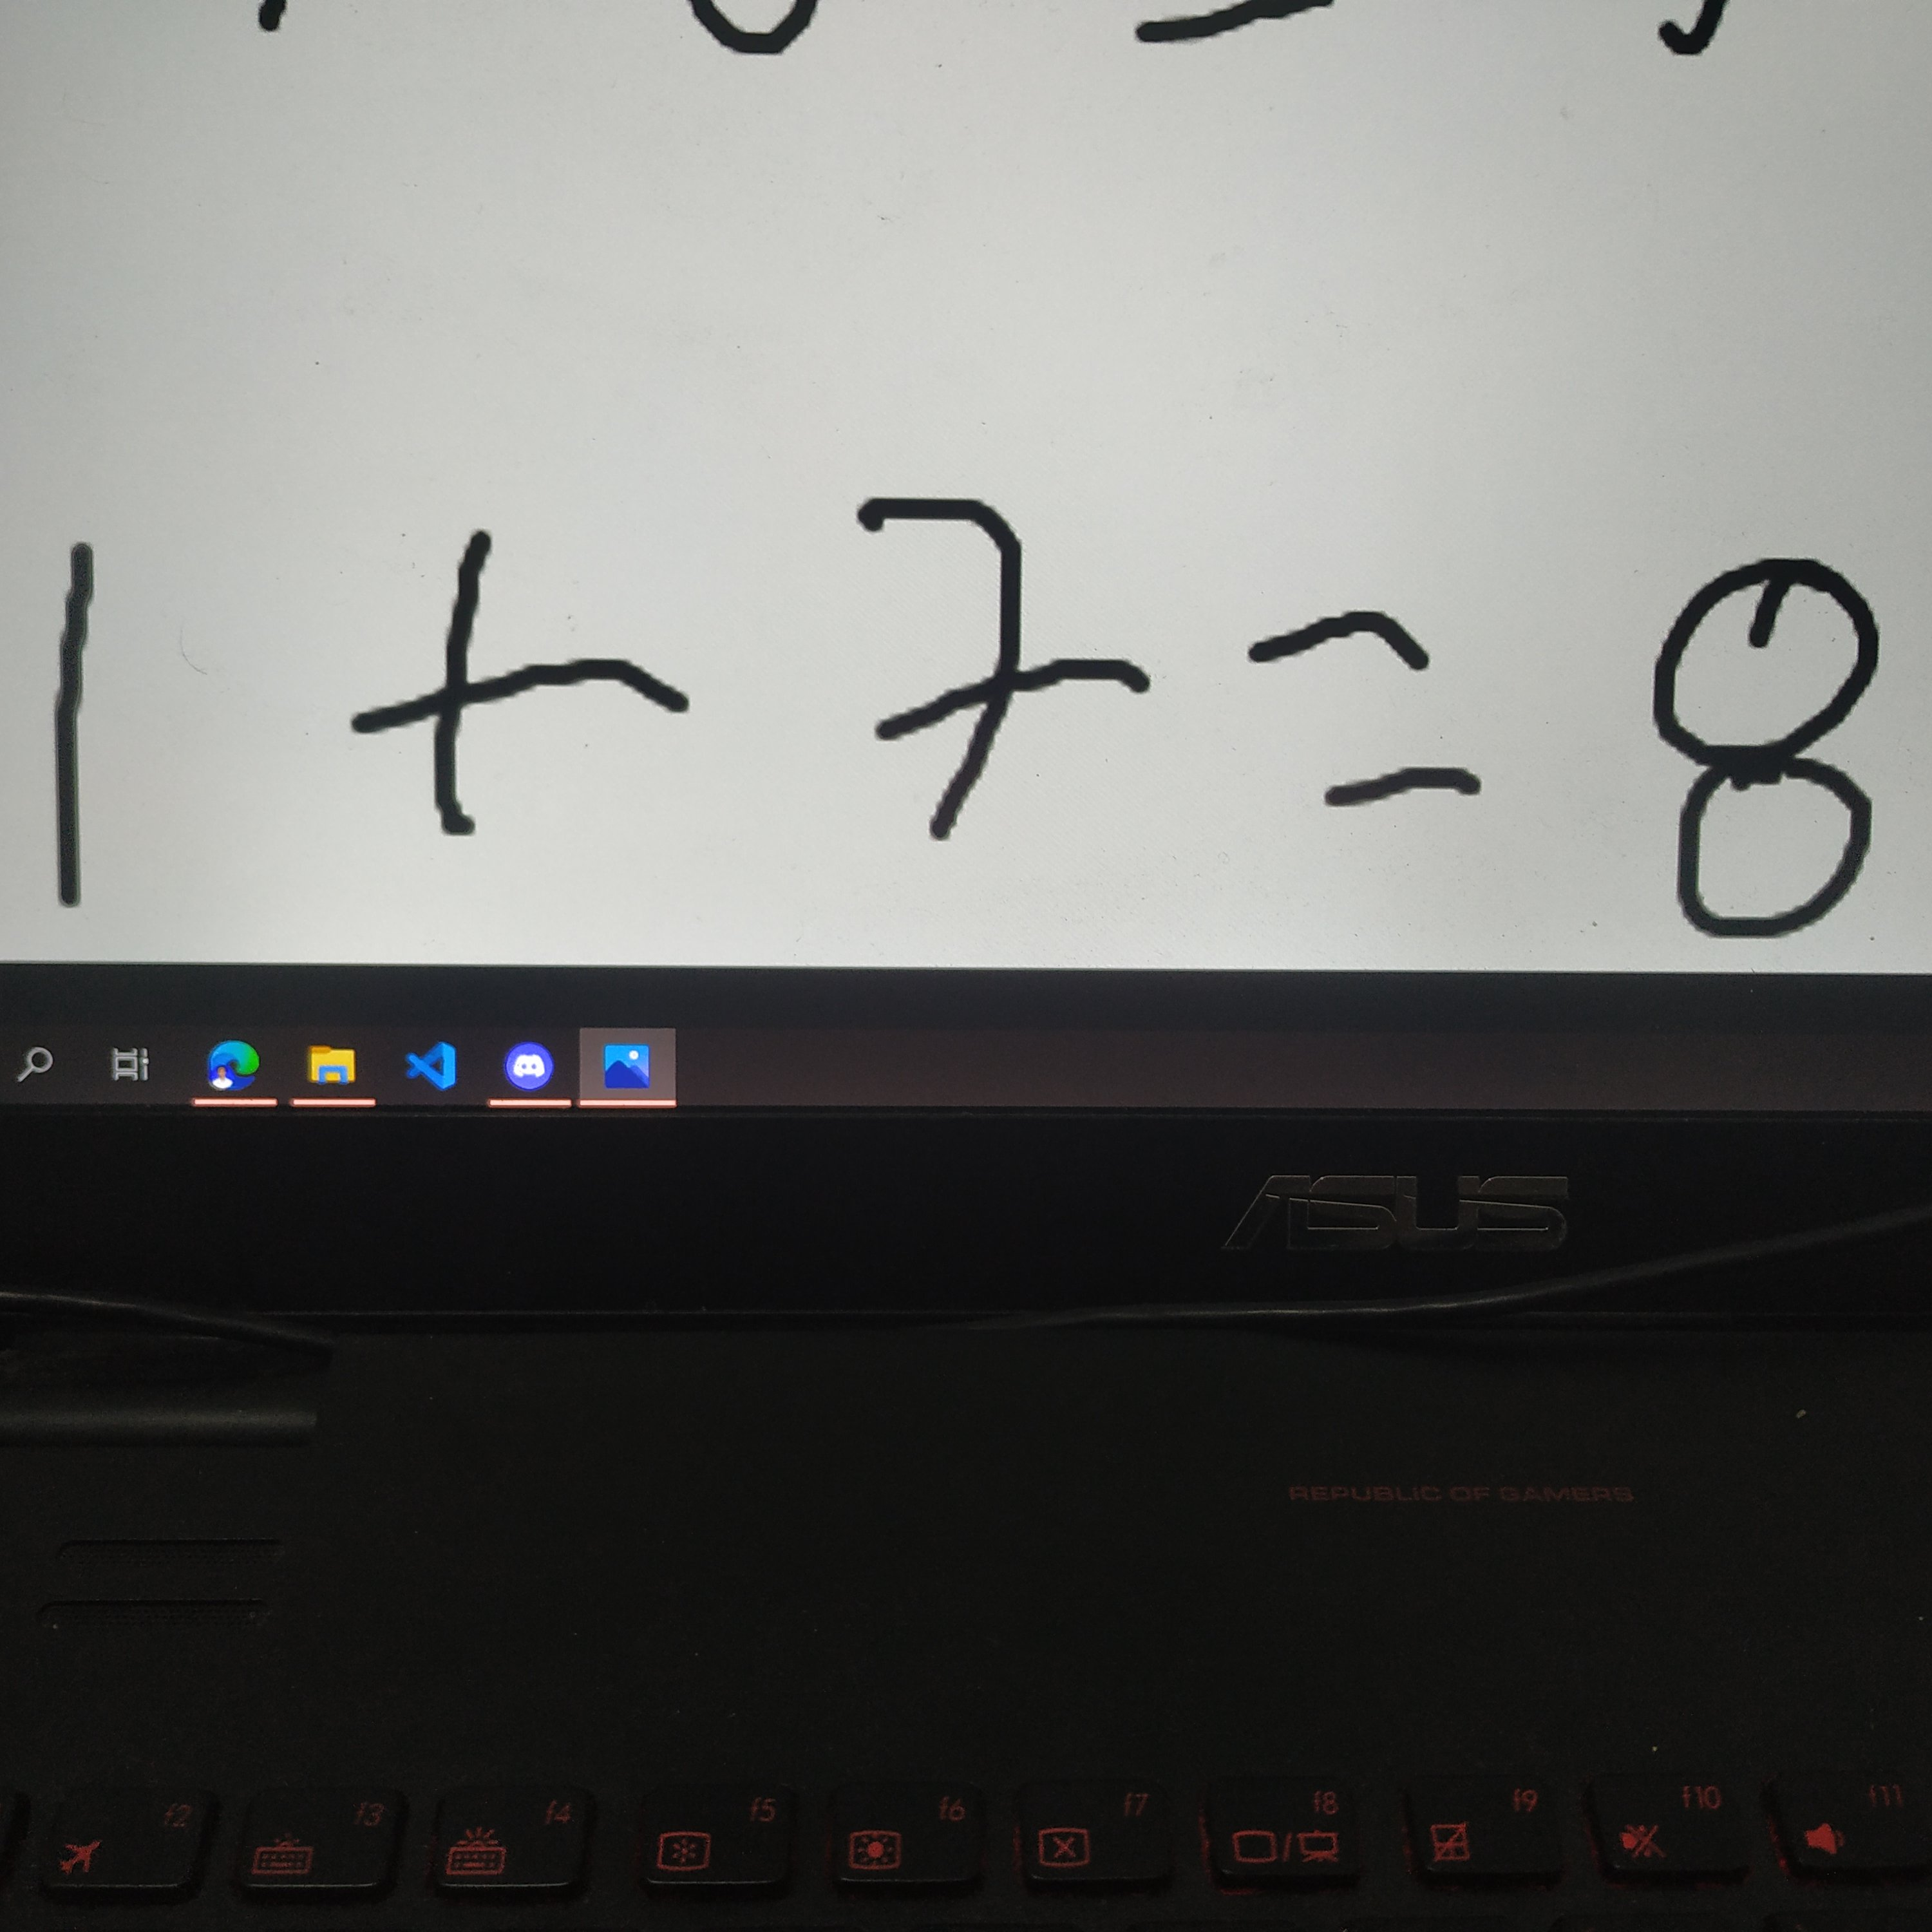equal: (1226, 612, 1552, 829)
num1: (15, 527, 165, 947)
num7: (819, 480, 1197, 868)
num8: (1613, 544, 1897, 949)
sum: (310, 517, 738, 853)
